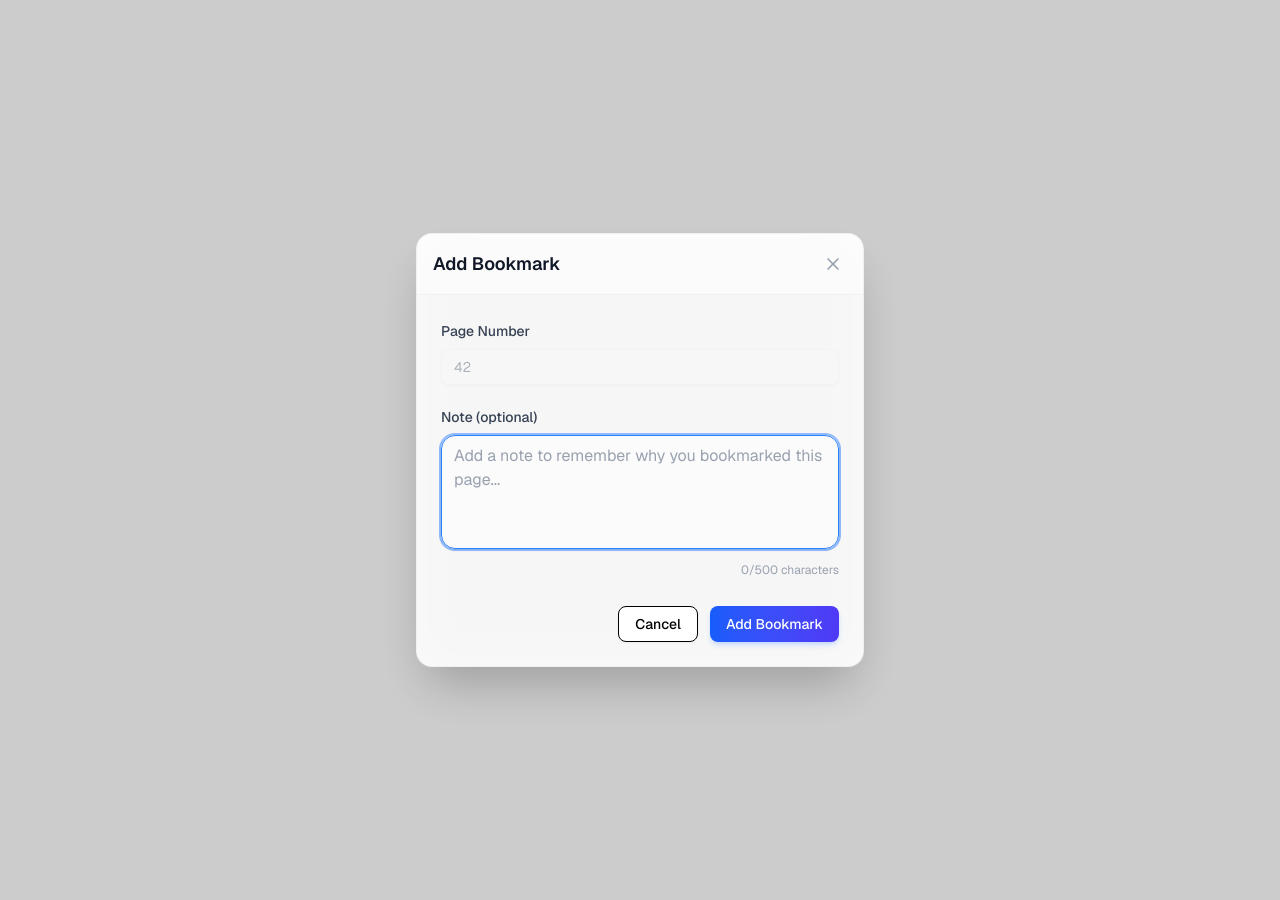
Scenario: BookmarkForm › Form Submission › should show loading state during submission
The image size is (1280, 900).
Step 1. Click the button "Add Bookmark" → (774, 624), box [710,606,839,642]
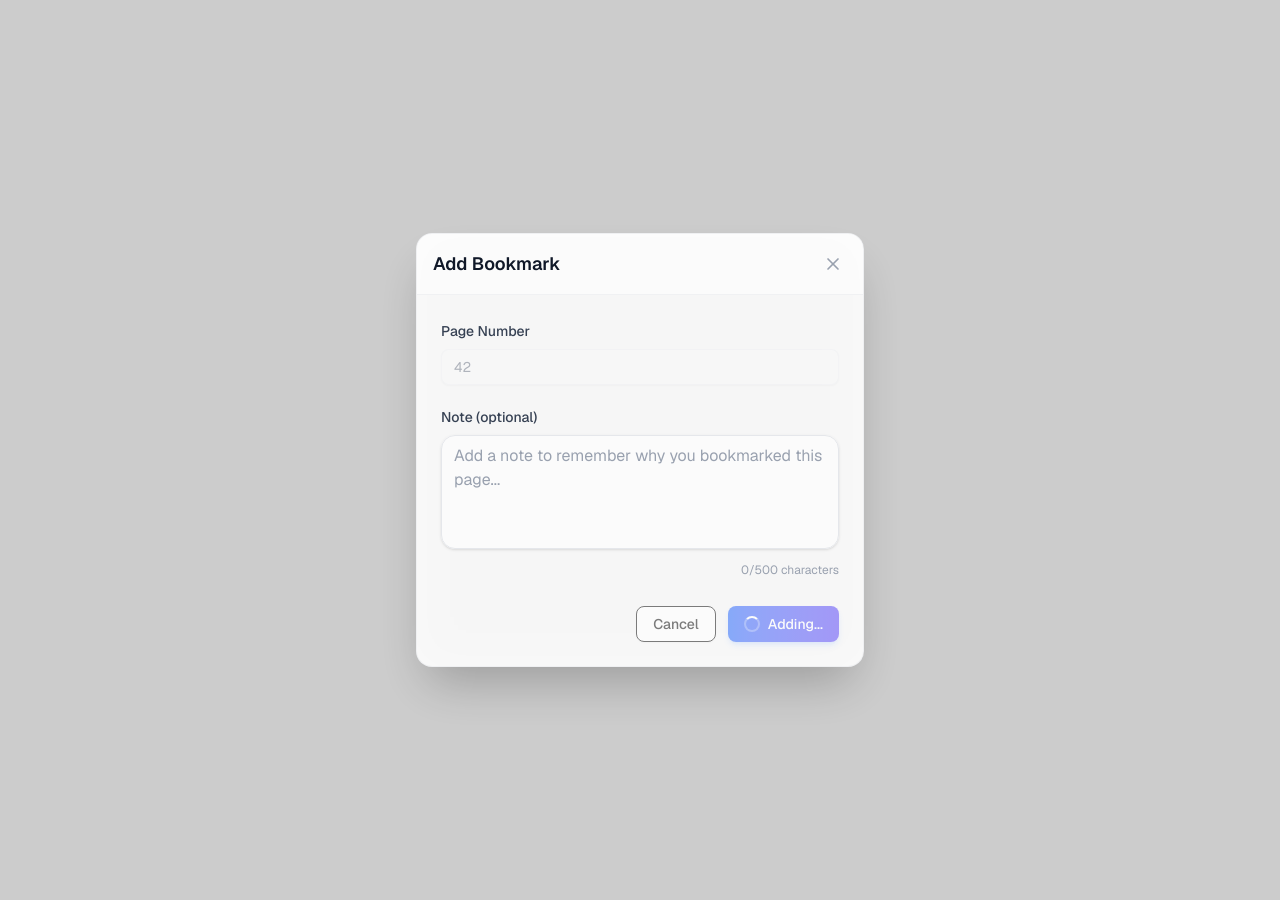
Expected: the text "Adding..." is shown, [744,614,823,634]
